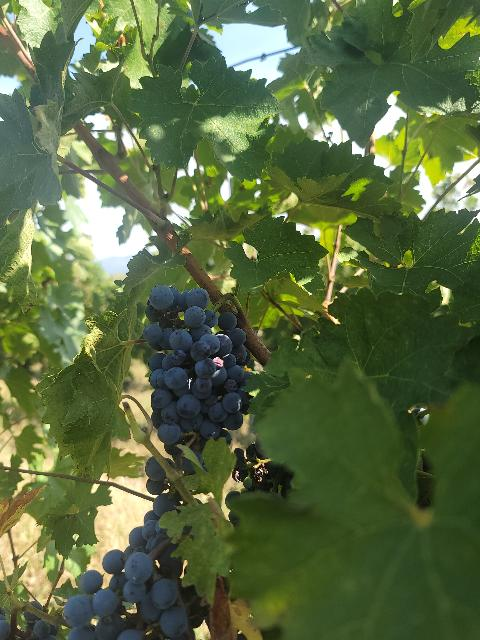grapes: (142, 285, 250, 459), (63, 550, 210, 640)
